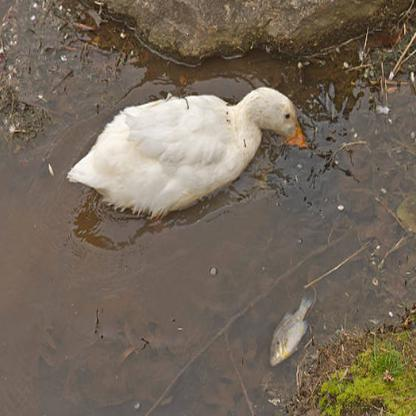deceased fish: (266, 293, 319, 367)
